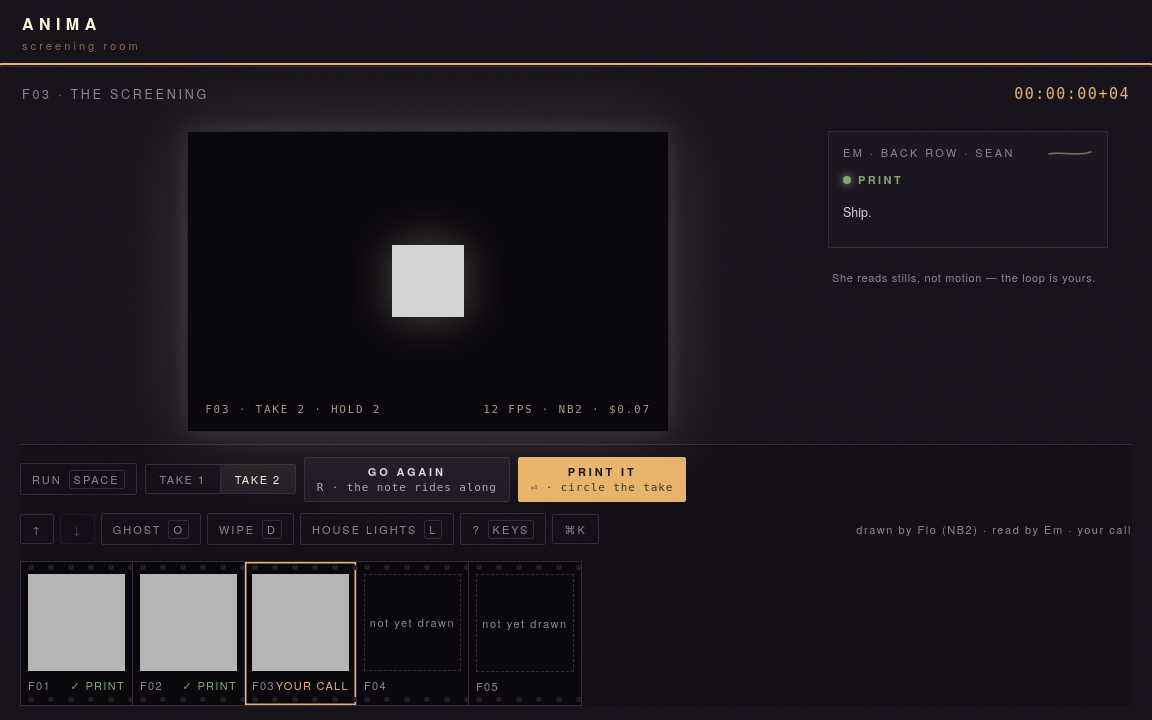
Test: EyeGate — ⌘K summons the palette (U1's, never swallowed) › the visible ⌘K button opens the palette
The image size is (1152, 720).
Expected: the element with test id "stage" is shown, [187,131,669,432]
What coordinates should you click on to do the following:
click the button named "command palette"
I would click on:
 (576, 529)
Its box is [552,514,599,544].
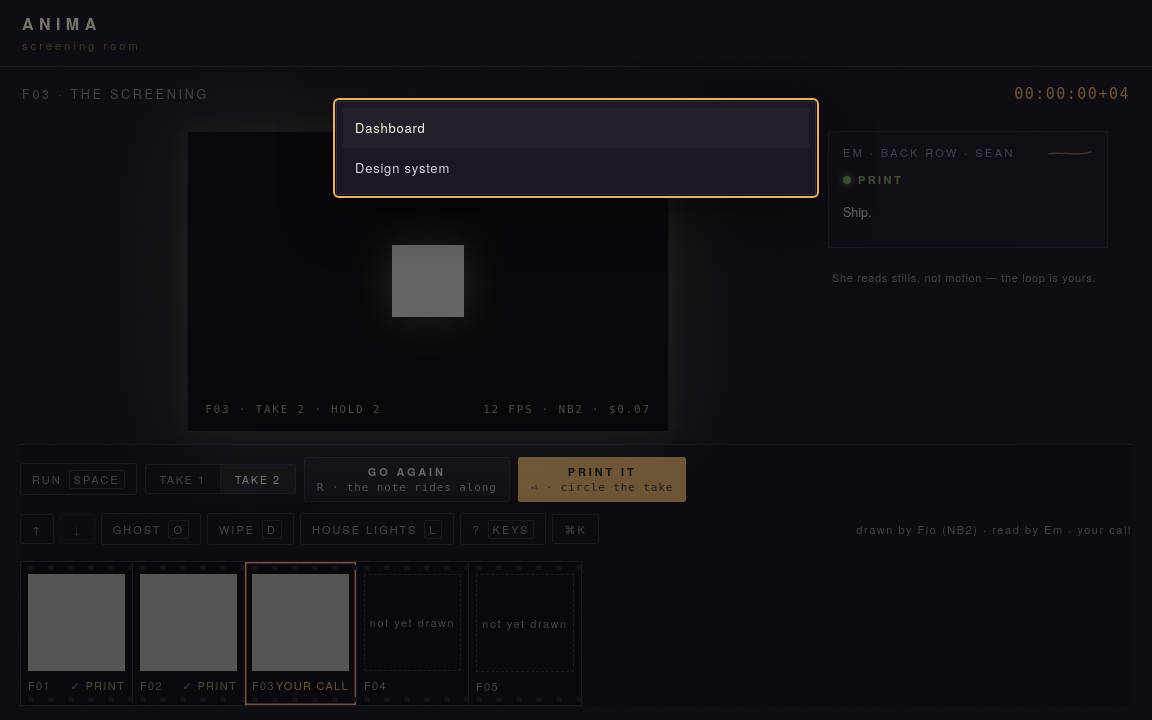
Now the dialog named "command palette" is shown, box [336,101,816,195]
